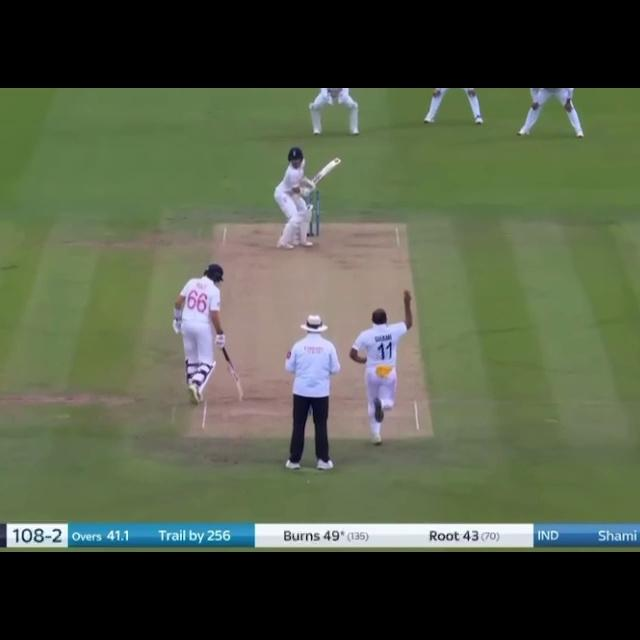umpire: (279, 310, 347, 471)
